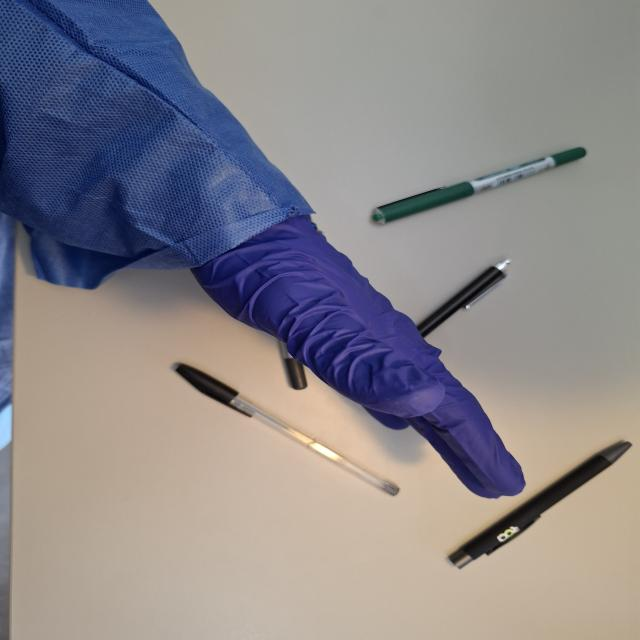glove_on: (175, 206, 529, 504)
